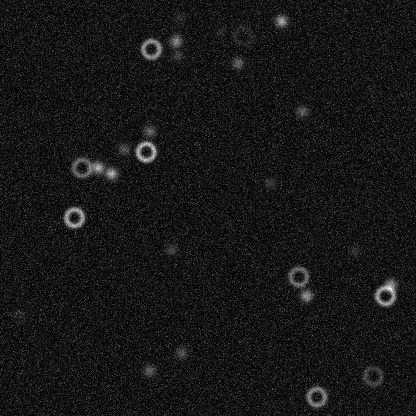Ring: (286, 264, 310, 288), (69, 155, 93, 179), (373, 283, 397, 307), (138, 36, 162, 60), (133, 139, 157, 163), (360, 363, 384, 387), (62, 205, 86, 229), (230, 23, 254, 47), (304, 384, 328, 408)
Spot: (11, 305, 27, 321), (170, 9, 186, 25), (212, 22, 228, 38), (382, 276, 398, 292), (163, 241, 179, 257), (141, 123, 157, 139), (293, 103, 309, 119), (298, 287, 314, 303), (273, 12, 289, 28), (115, 140, 131, 156), (167, 33, 183, 49), (168, 47, 184, 63), (229, 54, 245, 70), (173, 344, 189, 360), (345, 243, 361, 259), (141, 362, 157, 378), (103, 165, 119, 181), (89, 159, 105, 175), (261, 175, 277, 191)
